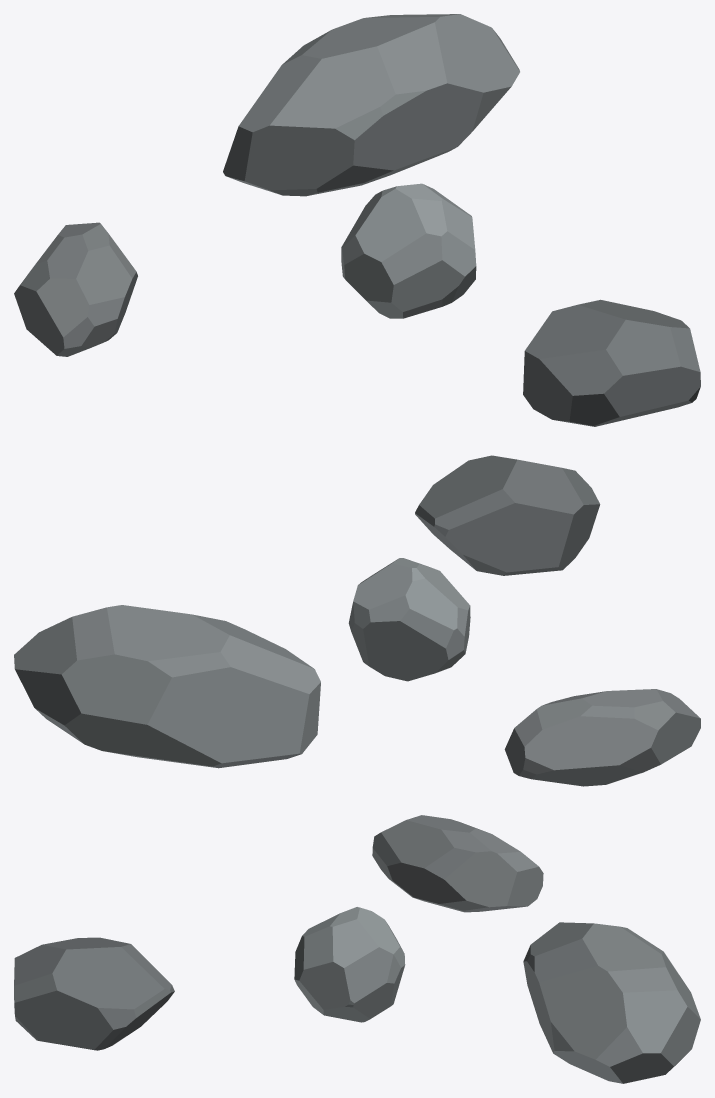
File: NHP_Rock_Cobble_A1_01.fbx
3 renders of one model, top to bottom at view 1: azimuth 30°, elevation 25°; view 2: azimuth 150°, elevation 25°; view 3: azimuth 270°, elevation 25°, orthographic. The views are drawn at different scales.
Parts seen in each view (by area): view 1: NHP_Rock_Cobble_A1_01_LOD0; view 2: NHP_Rock_Cobble_A1_01_LOD0; view 3: NHP_Rock_Cobble_A1_01_LOD0.
Boxes of the visible parts, x1,y1,x2,y2 form: NHP_Rock_Cobble_A1_01_LOD0: (14, 14, 700, 426); NHP_Rock_Cobble_A1_01_LOD0: (14, 455, 700, 786); NHP_Rock_Cobble_A1_01_LOD0: (14, 815, 700, 1083).
Size of what is drawn, in the model's own units: 0.9241 by 0.2127 by 1.08.
